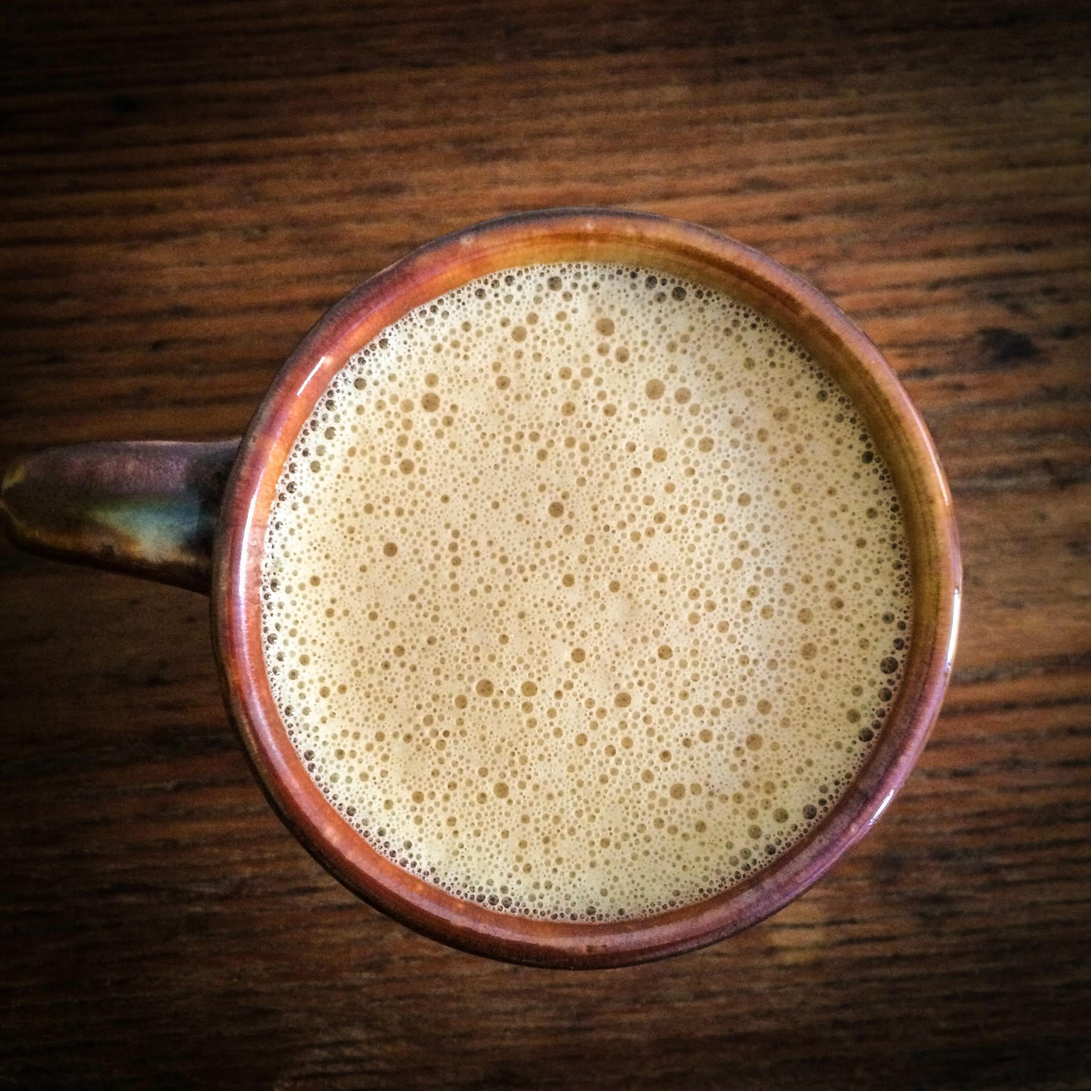Chai: (260, 248, 918, 921)
